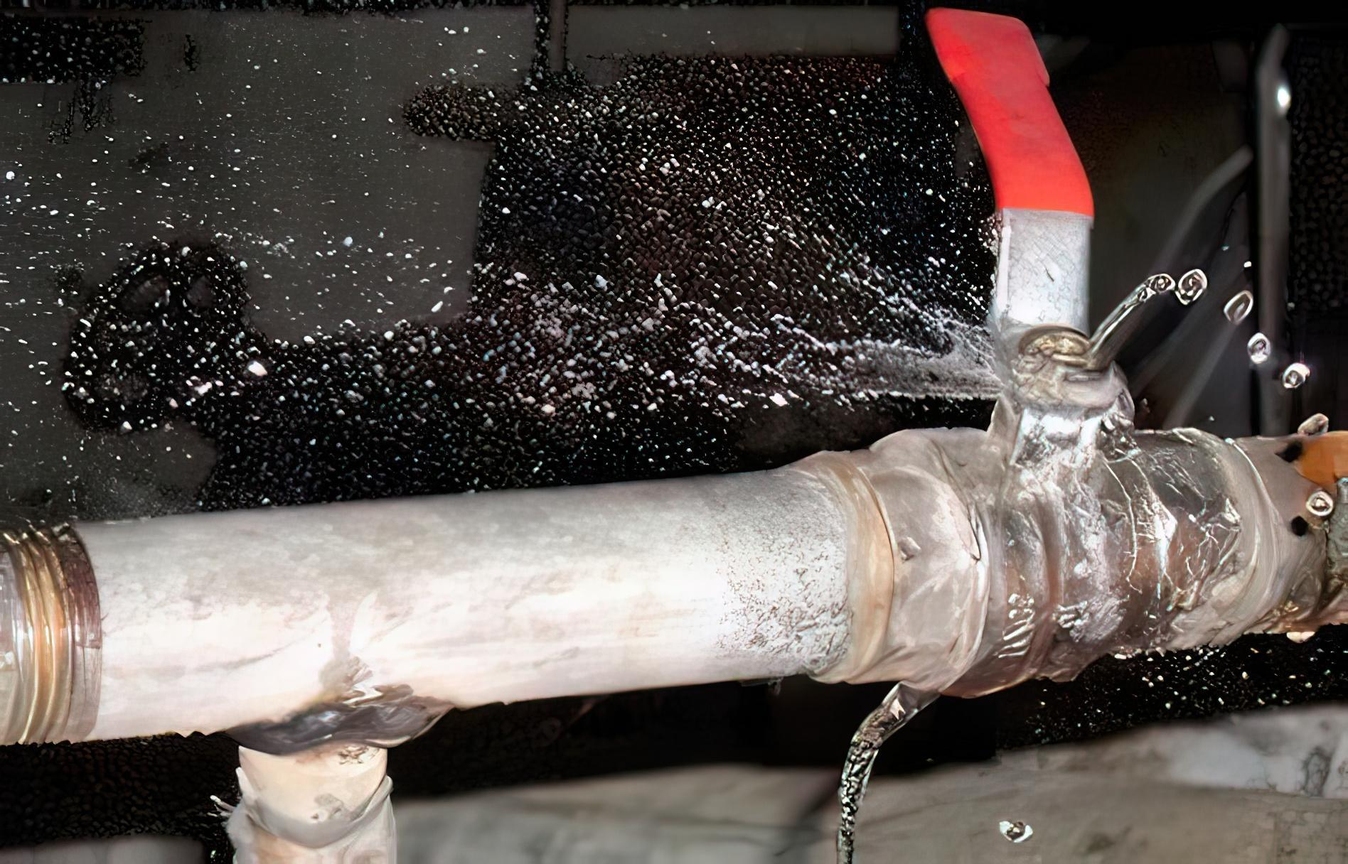pipe burst: (456, 178, 1075, 414)
water drop: (1175, 263, 1205, 310), (1223, 283, 1254, 328), (1297, 409, 1332, 441), (1001, 817, 1037, 846), (1278, 360, 1310, 390), (1244, 333, 1269, 367), (1305, 490, 1333, 517), (1288, 624, 1320, 643)
